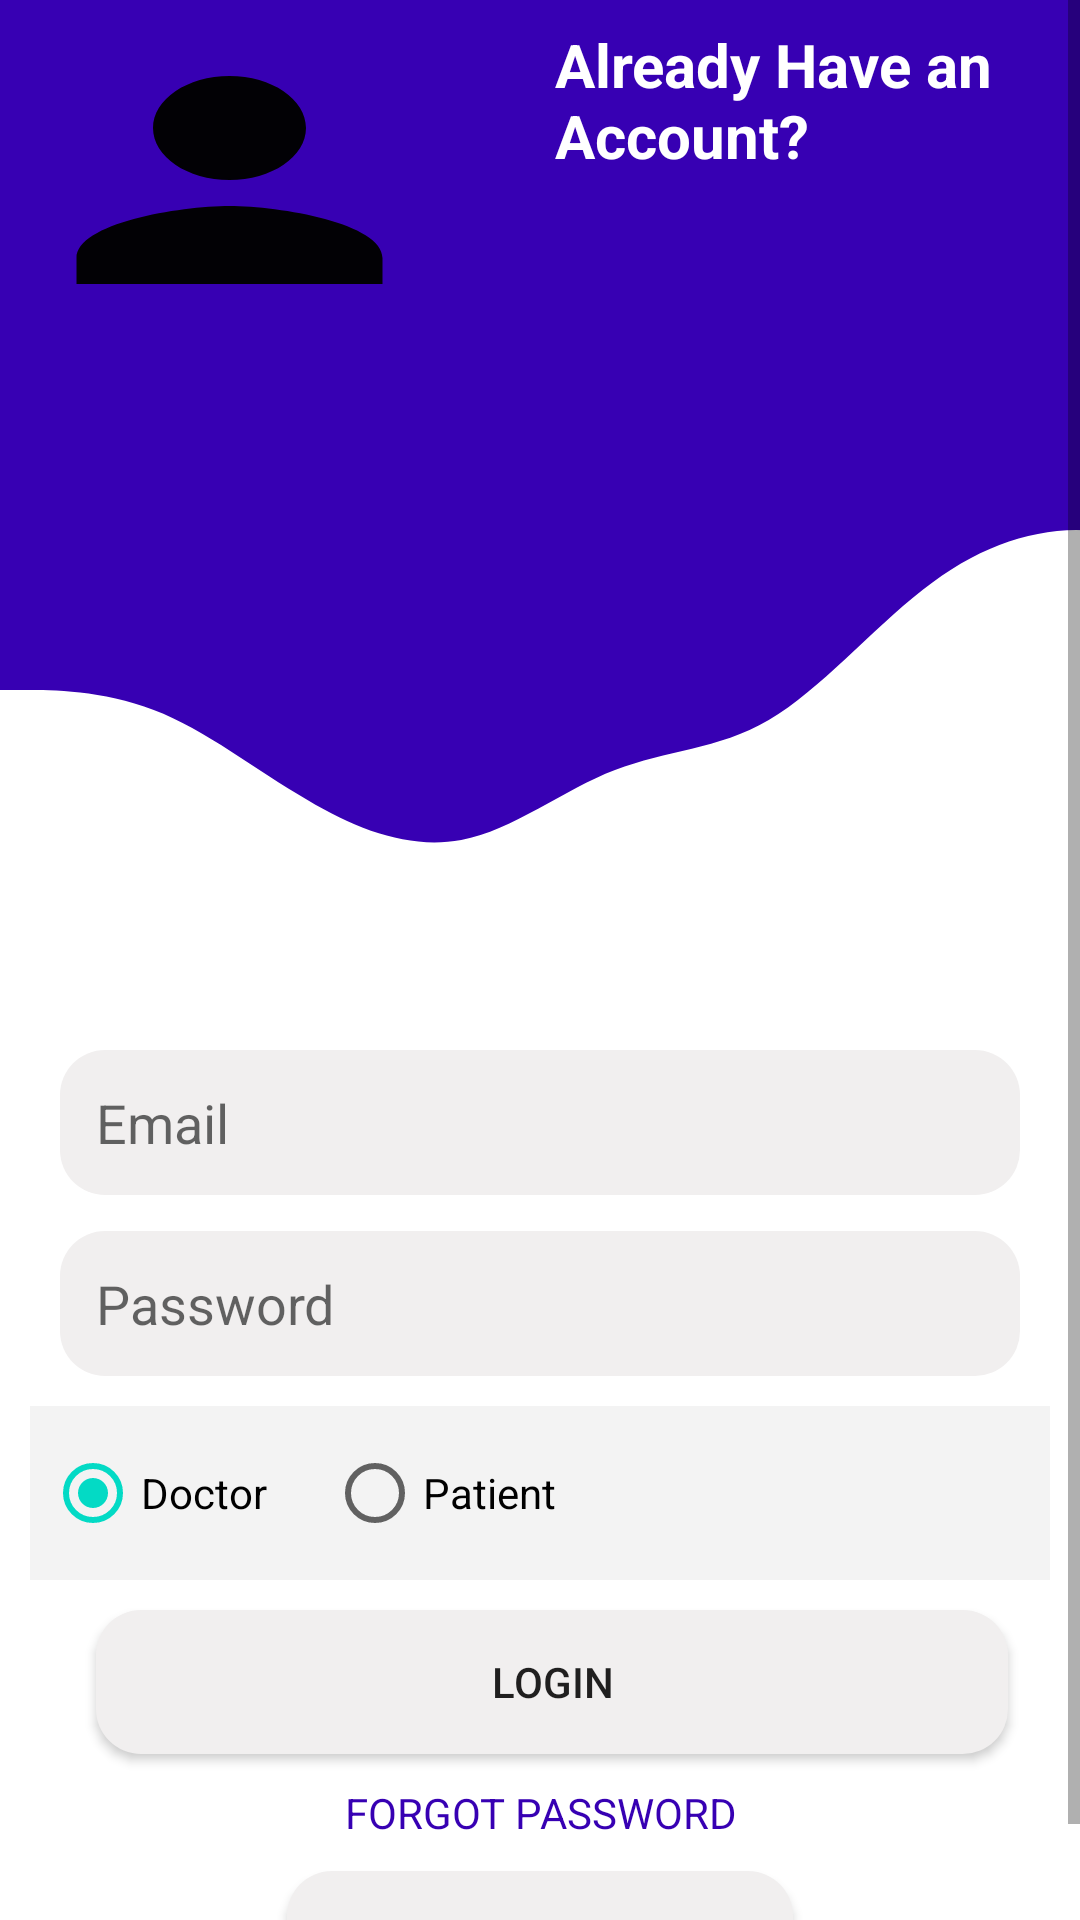

Named icons in this screenshot (1080 × 1920) and their bounding boxes, [x1, y1, x2, y2]:
person: [76, 76, 383, 284]
